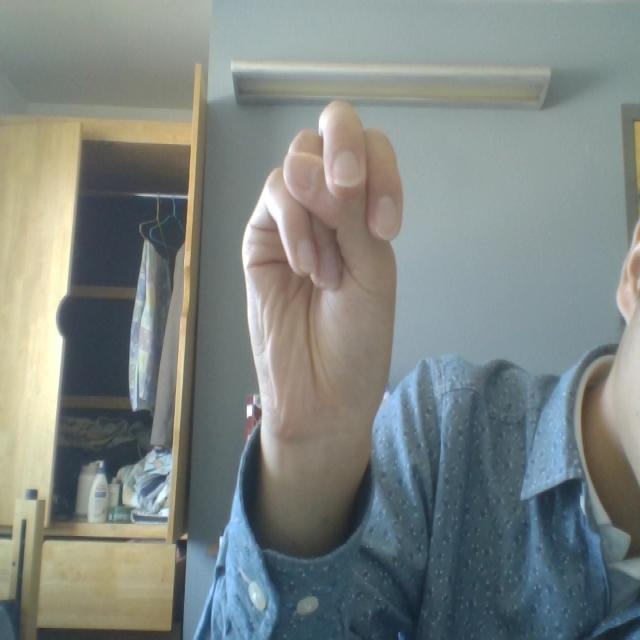N: (212, 95, 464, 467)
